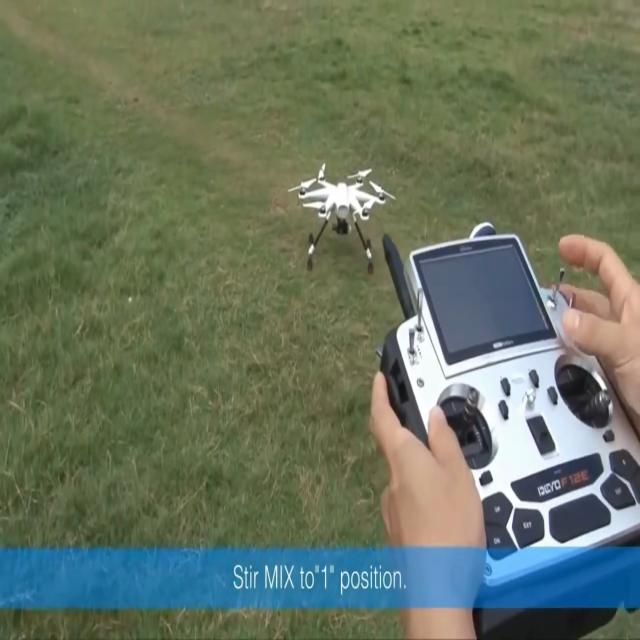drone: (287, 161, 396, 276)
